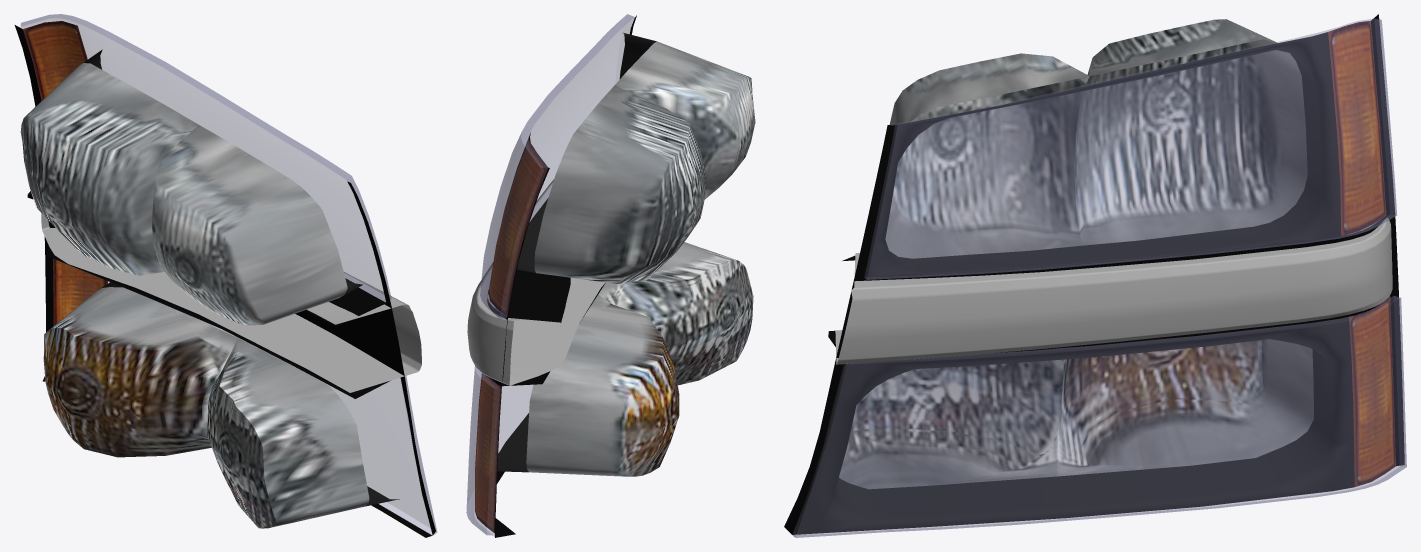
3 views of the same model, side by side, from view 1: azimuth 30°, elevation 25°; view 2: azimuth 150°, elevation 25°; view 3: azimuth 270°, elevation 25° (orthographic). The views are drawn at different scales.
Parts seen in each view (by area): view 1: U805_4A_061B_L_U805_4A_061B_L_5_N, U805_4A_061B_L_U805_4A_061B_L_3_DTaSI, U805_4A_061B_L_1_DaS_U805_4A_061B_L, U805_4A_061B_L_U805_4A_061B_L_2_DTaSI, U805_4A_061B_L_U805_4A_061B_L_6_D, U805_4A_061B_L_U805_4A_061B_L_4_N; view 2: U805_4A_061B_L_U805_4A_061B_L_5_N, U805_4A_061B_L_U805_4A_061B_L_3_DTaSI, U805_4A_061B_L_1_DaS_U805_4A_061B_L, U805_4A_061B_L_U805_4A_061B_L_4_N, U805_4A_061B_L_U805_4A_061B_L_2_DTaSI, U805_4A_061B_L_U805_4A_061B_L_6_D; view 3: U805_4A_061B_L_U805_4A_061B_L_5_N, U805_4A_061B_L_U805_4A_061B_L_2_DTaSI, U805_4A_061B_L_U805_4A_061B_L_3_DTaSI, U805_4A_061B_L_U805_4A_061B_L_4_N, U805_4A_061B_L_1_DaS_U805_4A_061B_L, U805_4A_061B_L_U805_4A_061B_L_6_D.
Part boxes in pixels (x1,y1,x2,y2): U805_4A_061B_L_U805_4A_061B_L_5_N: (20,21,369,528); U805_4A_061B_L_U805_4A_061B_L_3_DTaSI: (20,14,391,301); U805_4A_061B_L_1_DaS_U805_4A_061B_L: (41,213,421,392); U805_4A_061B_L_U805_4A_061B_L_2_DTaSI: (108,281,437,534); U805_4A_061B_L_U805_4A_061B_L_6_D: (14,25,435,537); U805_4A_061B_L_U805_4A_061B_L_4_N: (27,49,399,506); U805_4A_061B_L_U805_4A_061B_L_5_N: (475,41,755,532); U805_4A_061B_L_U805_4A_061B_L_3_DTaSI: (480,14,634,318); U805_4A_061B_L_1_DaS_U805_4A_061B_L: (467,179,605,385); U805_4A_061B_L_U805_4A_061B_L_4_N: (480,33,656,472); U805_4A_061B_L_U805_4A_061B_L_2_DTaSI: (466,366,532,535); U805_4A_061B_L_U805_4A_061B_L_6_D: (487,15,636,537); U805_4A_061B_L_U805_4A_061B_L_5_N: (839,19,1395,489); U805_4A_061B_L_U805_4A_061B_L_2_DTaSI: (792,296,1406,537); U805_4A_061B_L_U805_4A_061B_L_3_DTaSI: (864,18,1396,279); U805_4A_061B_L_U805_4A_061B_L_4_N: (792,32,1354,534); U805_4A_061B_L_1_DaS_U805_4A_061B_L: (835,218,1392,364); U805_4A_061B_L_U805_4A_061B_L_6_D: (784,14,1404,534).
Bounding box in the file's own units: 17.98 × 27.74 × 35.77.
